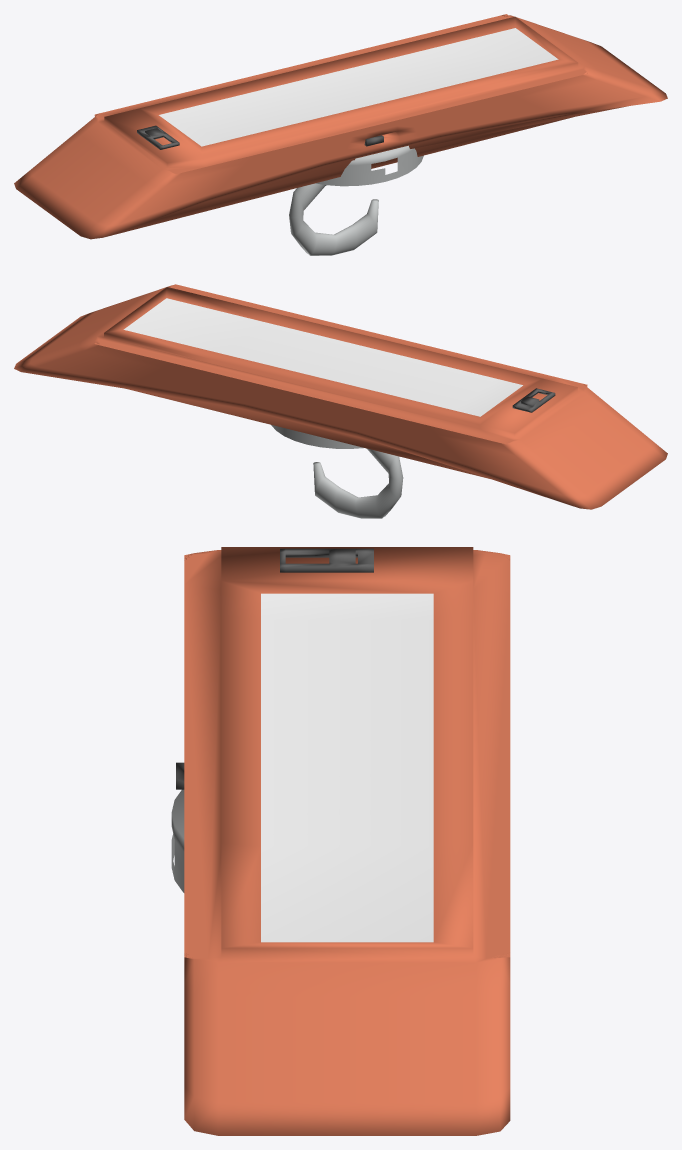
The model's file is Weight.glb.
3 renders of one model, top to bottom at view 1: azimuth 30°, elevation 25°; view 2: azimuth 150°, elevation 25°; view 3: azimuth 270°, elevation 25°, orthographic. The views are drawn at different scales.
Visible parts, largest first — view 1: Plane.001; view 2: Plane.001; view 3: Plane.001.
Part boxes in pixels (x1=…): Plane.001: x1=14, y1=14, x2=667, y2=255; Plane.001: x1=14, y1=284, x2=667, y2=518; Plane.001: x1=171, y1=547, x2=510, y2=1135.
Size of the model in its own units: 0.3727 by 0.099 by 0.0934.
